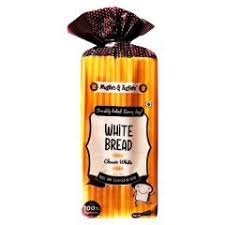bread: (59, 9, 174, 223)
